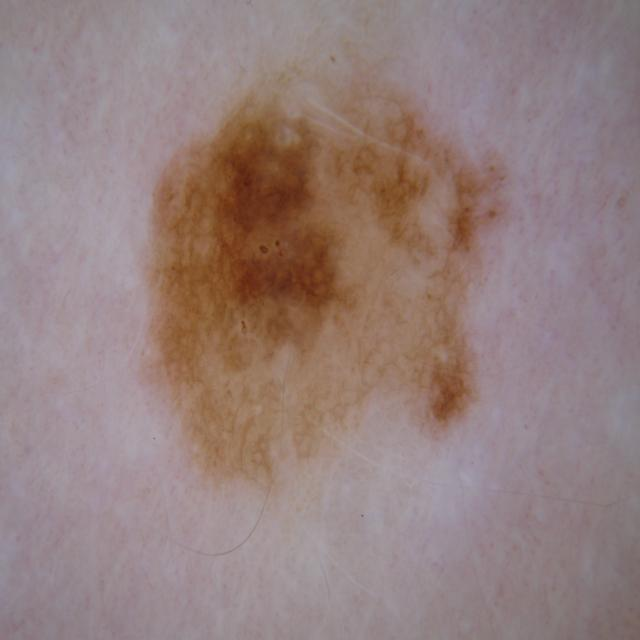Skin-Cancer Nevus: (100, 14, 564, 626)
